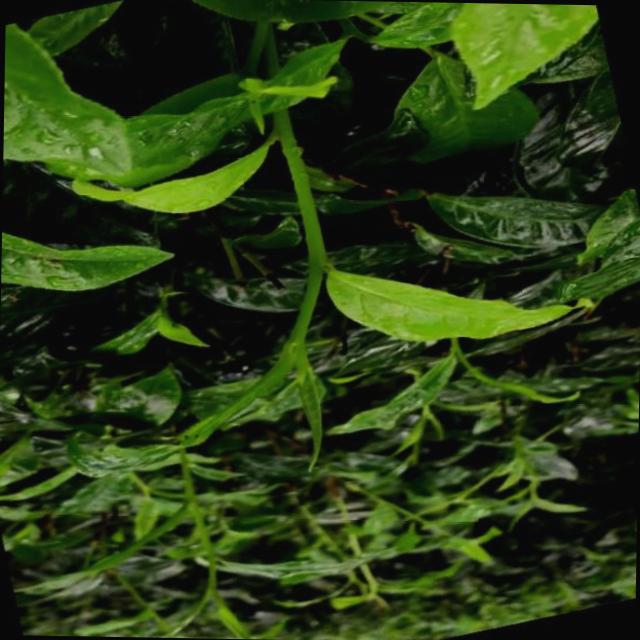Stem: (309, 249, 328, 274), (206, 582, 216, 598), (451, 342, 458, 352)
